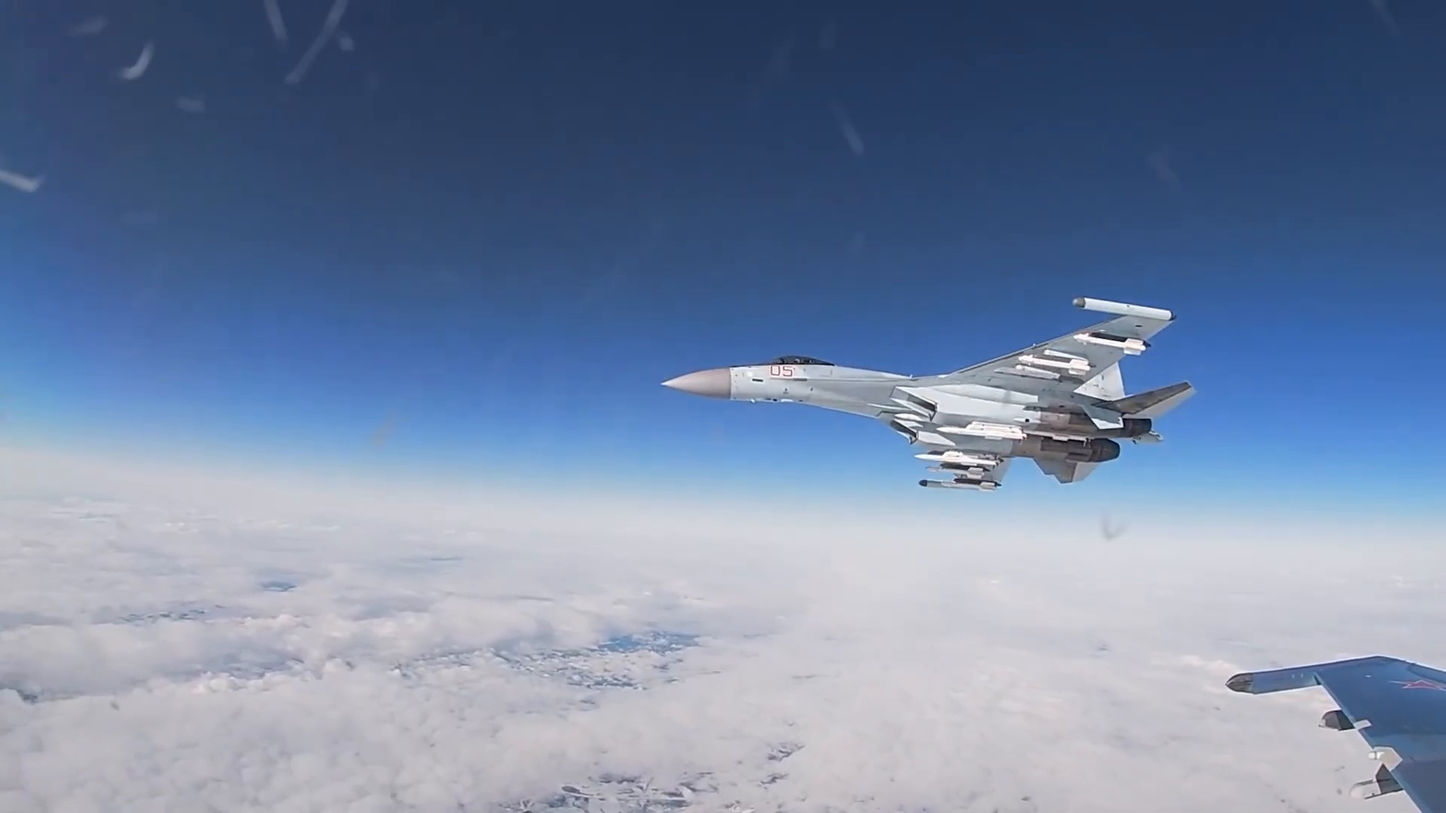Su35: (660, 296, 1194, 494)
